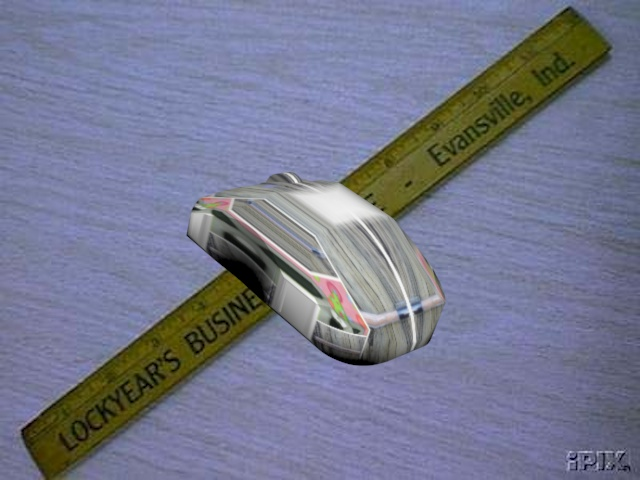mouse: (185, 169, 449, 368)
